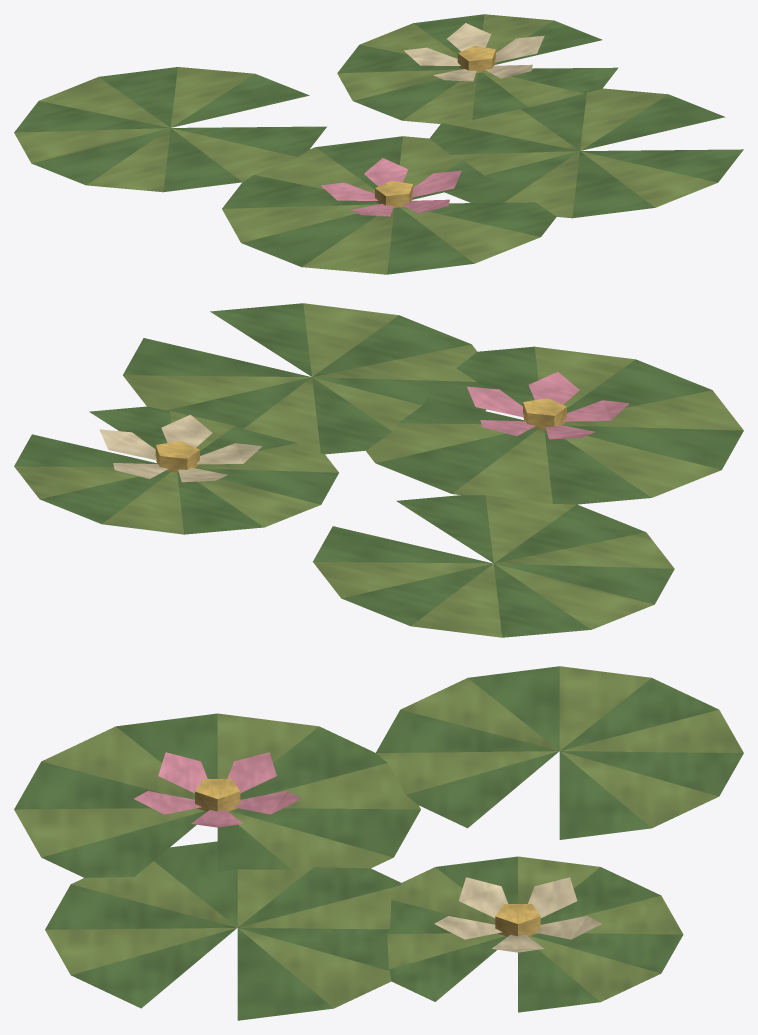
File: lotus_pad_cluster_02.fbx
3 views of the same model, one above another, from view 1: azimuth 30°, elevation 25°; view 2: azimuth 150°, elevation 25°; view 3: azimuth 270°, elevation 25° (orthographic). The views are drawn at different scales.
Parts seen in each view (by area): view 1: lotus_pad_cluster_02; view 2: lotus_pad_cluster_02; view 3: lotus_pad_cluster_02.
Boxes of the visible parts, x1=… form: lotus_pad_cluster_02: x1=14, y1=14, x2=743, y2=274; lotus_pad_cluster_02: x1=14, y1=303, x2=743, y2=637; lotus_pad_cluster_02: x1=14, y1=666, x2=743, y2=1020.
Bounding box in the file's own units: 161 × 5 × 140.
1 material, 1 textured.
